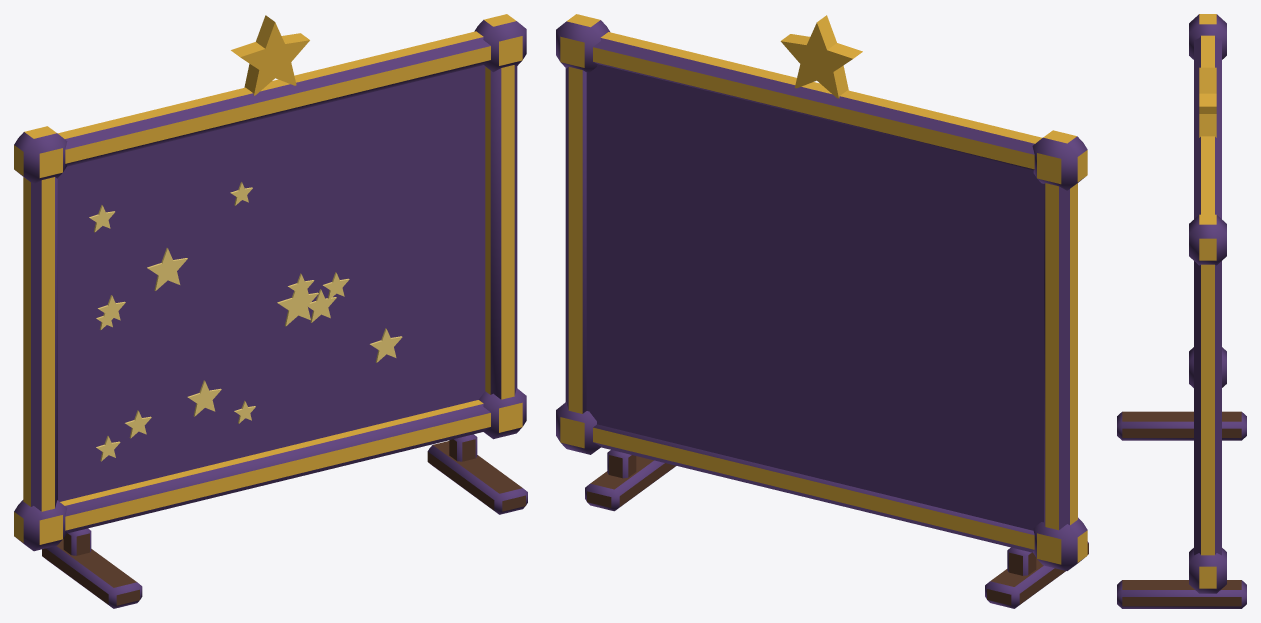
Rendered from toy_photo_frame.glb.
The picture shows the model from 3 angles, left to right: view 1: azimuth 30°, elevation 25°; view 2: azimuth 150°, elevation 25°; view 3: azimuth 270°, elevation 25°; orthographic projection. The views are drawn at different scales.
Parts seen in each view (by area): view 1: Frame; view 2: Frame; view 3: Frame.
Boxes of the visible parts, x1,y1,x2,y2 form: Frame: (14,14,527,608); Frame: (556,14,1088,608); Frame: (1117,14,1246,608).
Size of the model in its own units: 3 by 2.88 by 0.75.
